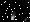person: (12, 9, 17, 20), (24, 12, 29, 21)
